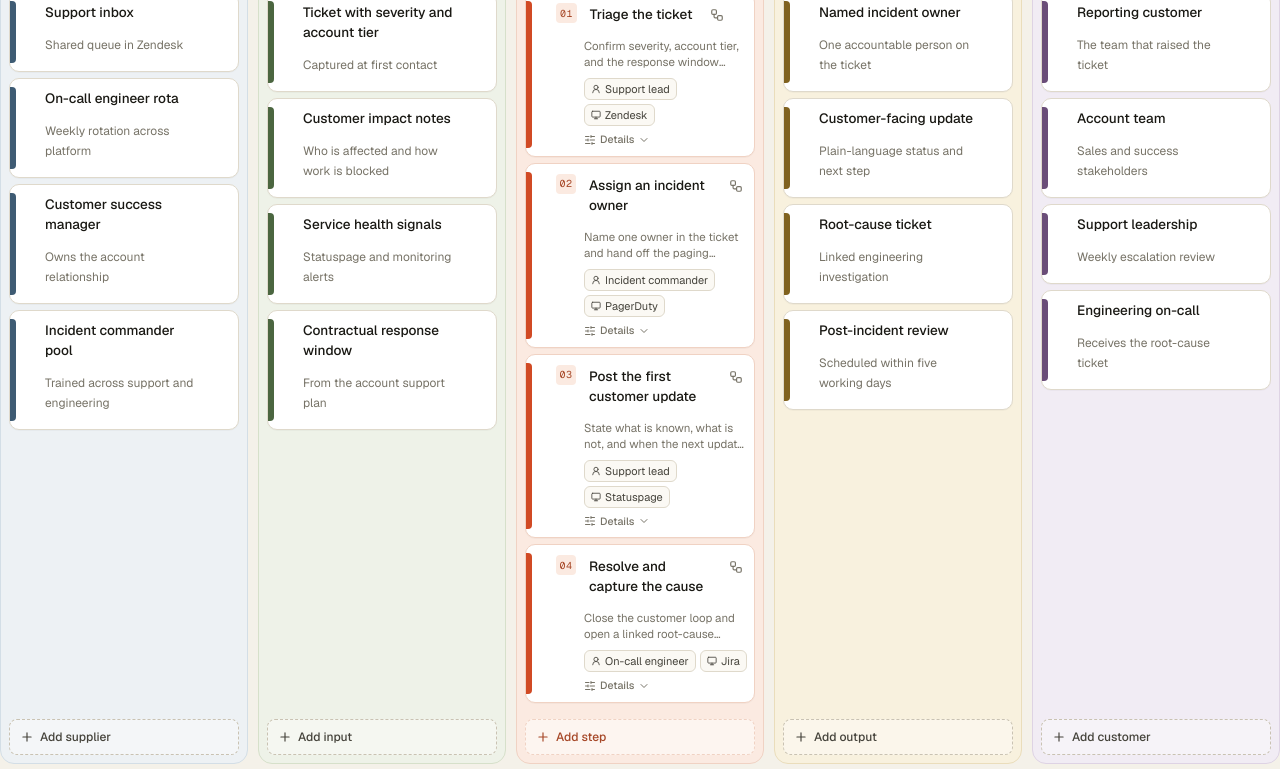
Test: SIPOC entry editing › adds an entry inline and keeps capture moving
The image size is (1280, 769).
(page scrolled)
Click the button "Add supplier" at {"x": 124, "y": 737}, box [9,719,239,755]
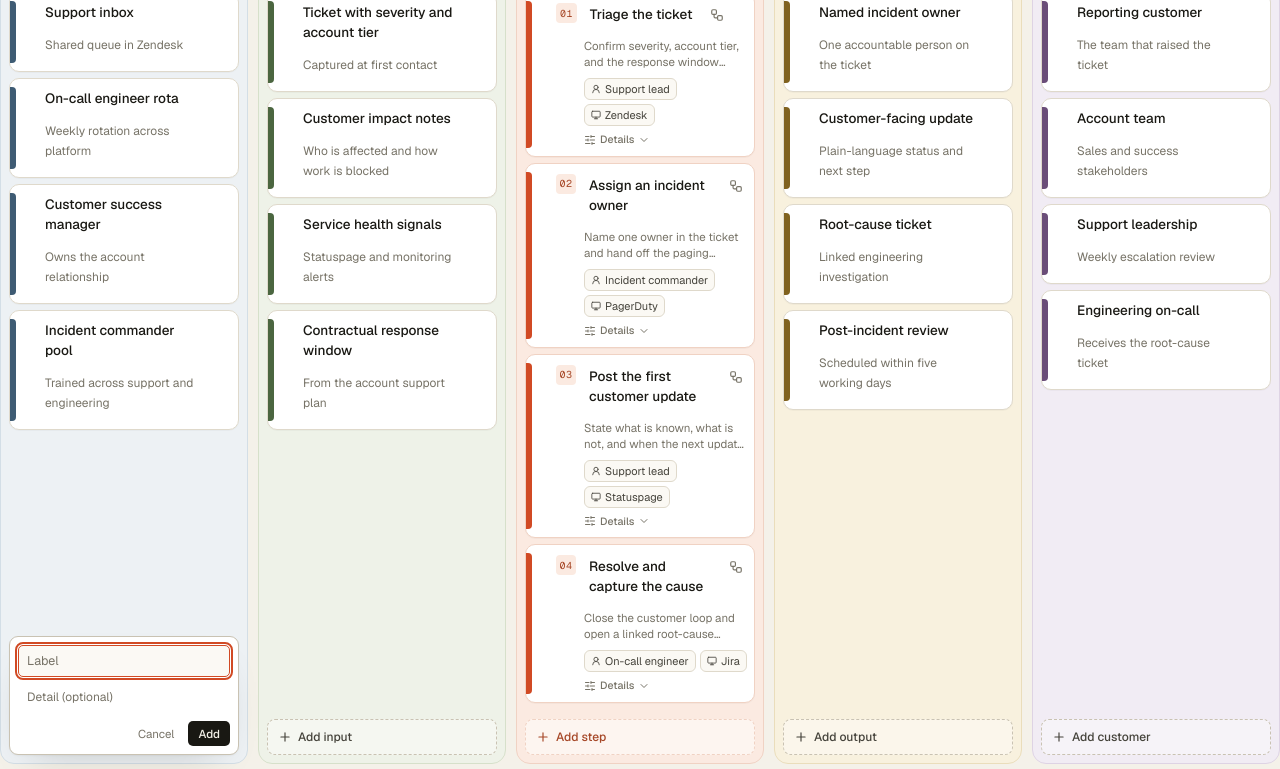
Type "Procurement desk" into the field named "New supplier label" at {"x": 124, "y": 661}, box [18,645,230,677]
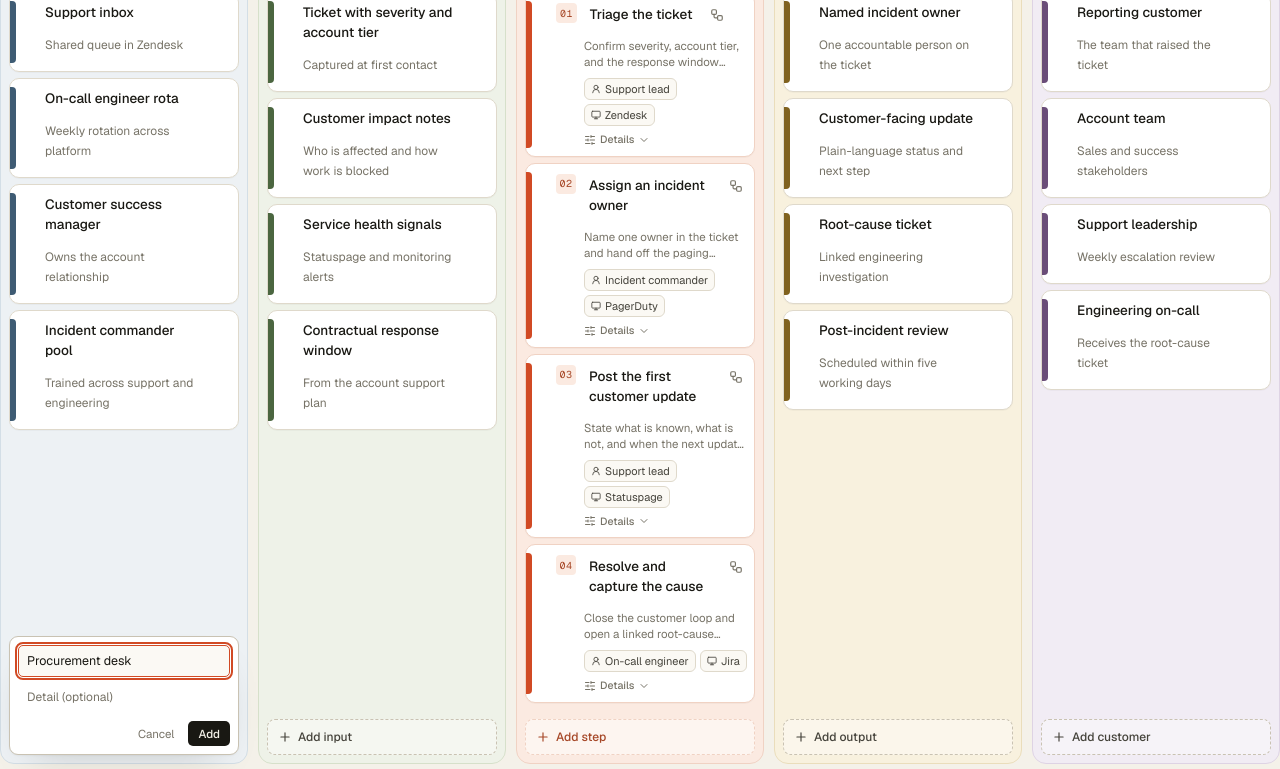
Type "Owns vendor checks" into the field named "New supplier detail" at {"x": 124, "y": 697}, box [18,681,230,713]
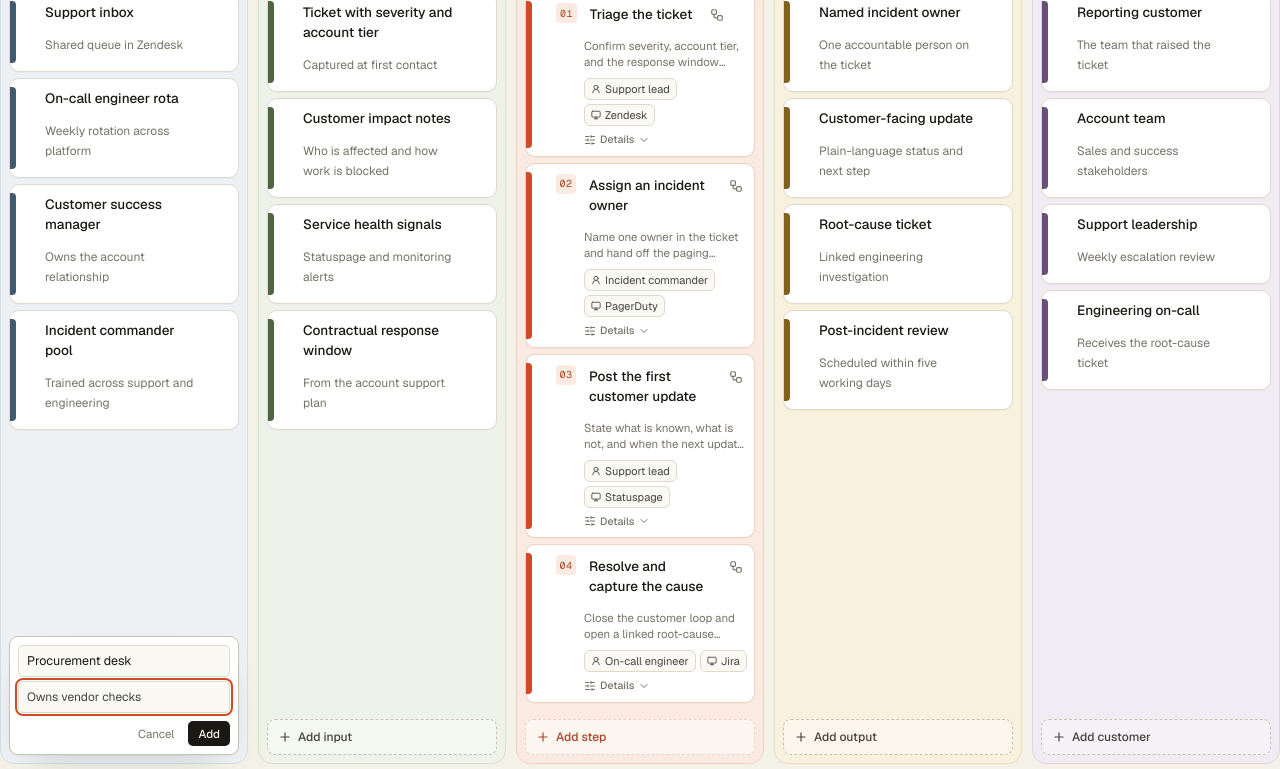
Click the button with aria-label "Add supplier" at {"x": 209, "y": 733}, box [188,721,230,746]
(page scrolled)
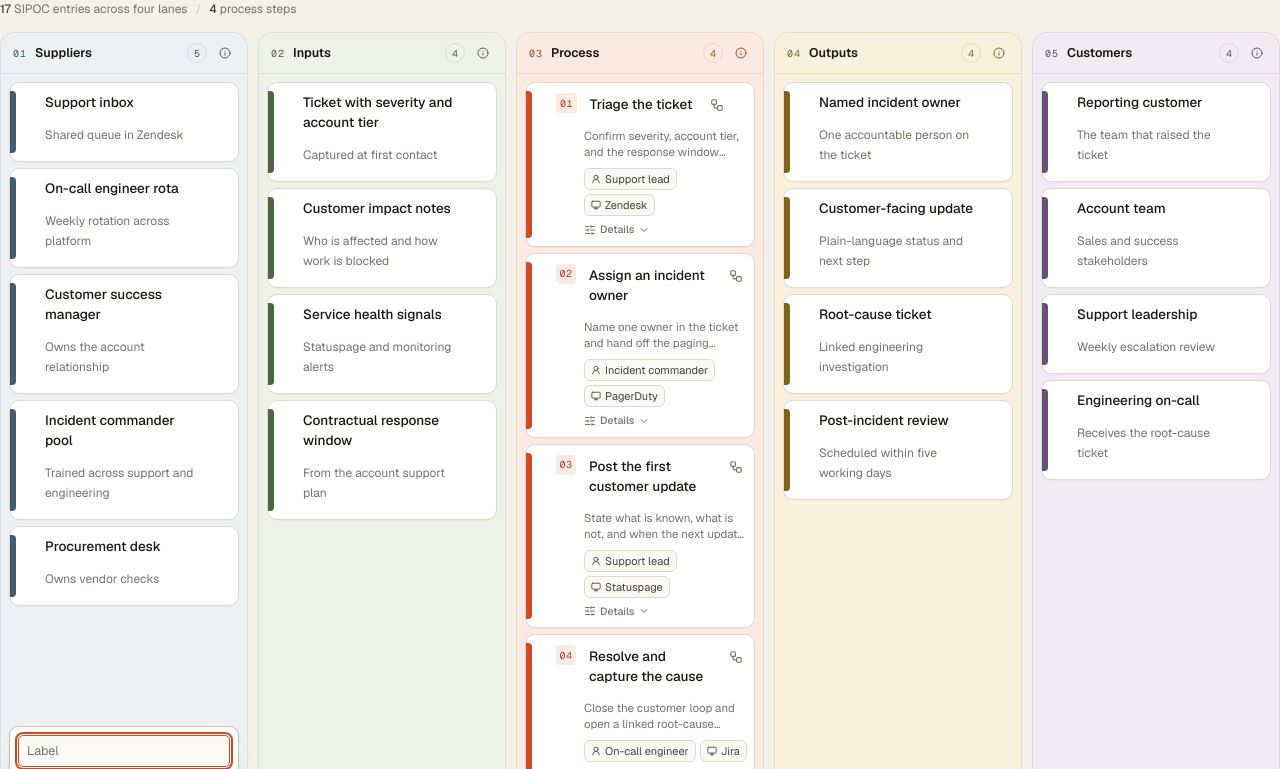
Expected: the text named "5 entries" is shown, [187,43,207,63]
